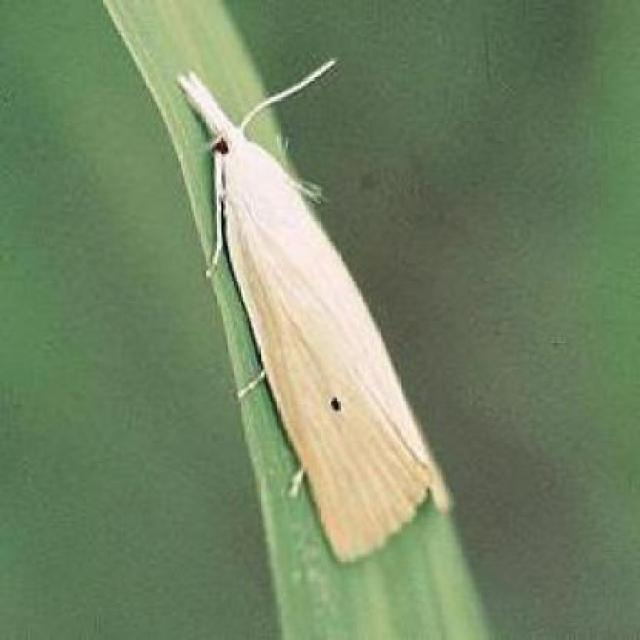stem-borer: (176, 55, 456, 568)
